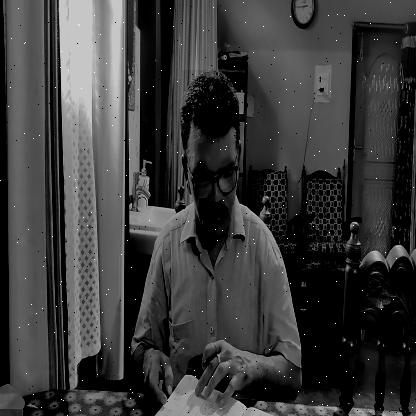Normal: (182, 70, 246, 238)
